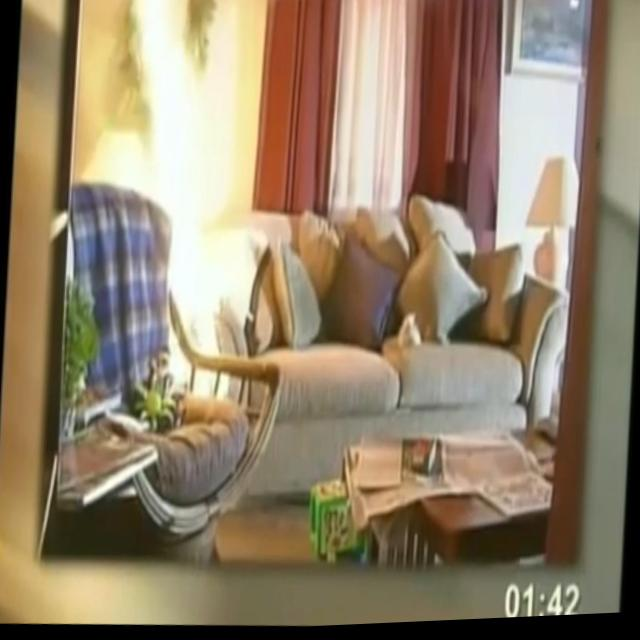fire: (107, 0, 251, 402)
